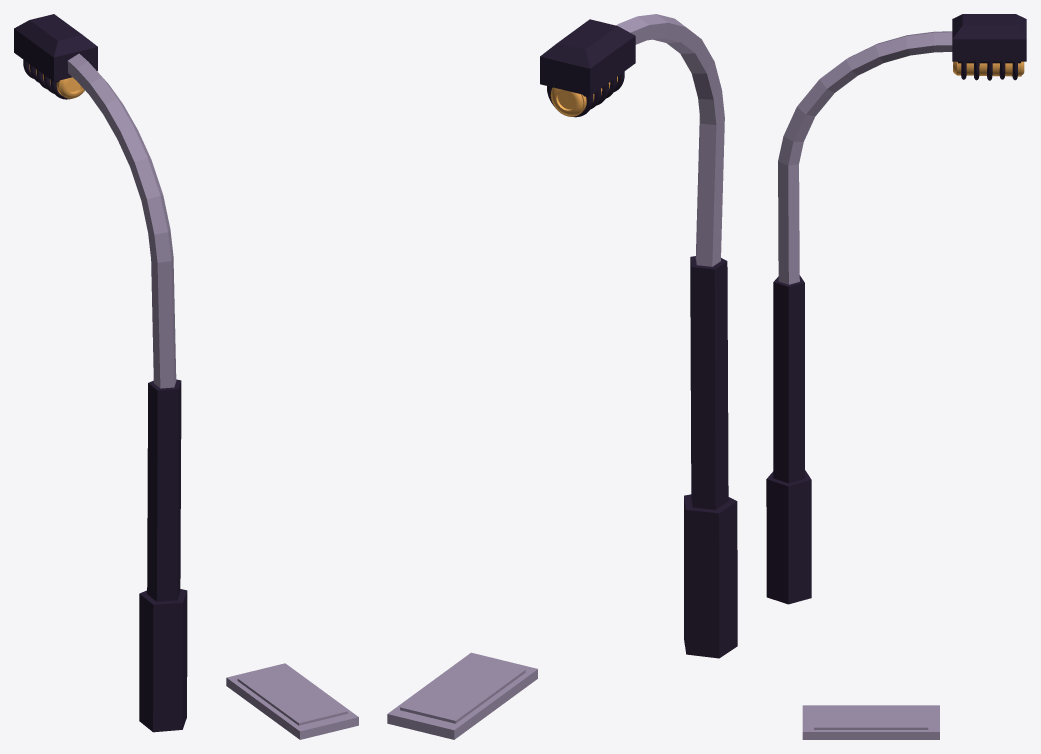
File: lamp.fbx
3 renders of one model, left to right at view 1: azimuth 30°, elevation 25°; view 2: azimuth 150°, elevation 25°; view 3: azimuth 270°, elevation 25°, orthographic. The views are drawn at different scales.
Parts seen in each view (by area): view 1: Cylinder, Cube.001, Cube; view 2: Cylinder, Cube.001, Cube, lamp; view 3: Cylinder, Cube.001, Cube, lamp.
Boxes of the visible parts, left/top/right/bottom form: Cylinder: left=67, top=53, right=187, bottom=732; Cube.001: left=226, top=663, right=358, bottom=739; Cube: left=14, top=14, right=97, bottom=82; Cylinder: left=616, top=14, right=737, bottom=658; Cube.001: left=387, top=652, right=537, bottom=739; Cube: left=540, top=19, right=635, bottom=96; lamp: left=550, top=76, right=617, bottom=116; Cylinder: left=766, top=31, right=952, bottom=604; Cube.001: left=802, top=705, right=939, bottom=739; Cube: left=952, top=14, right=1026, bottom=63; lamp: left=953, top=61, right=1024, bottom=76.
Size of the model in its own units: 1016 by 2913 by 1093.
